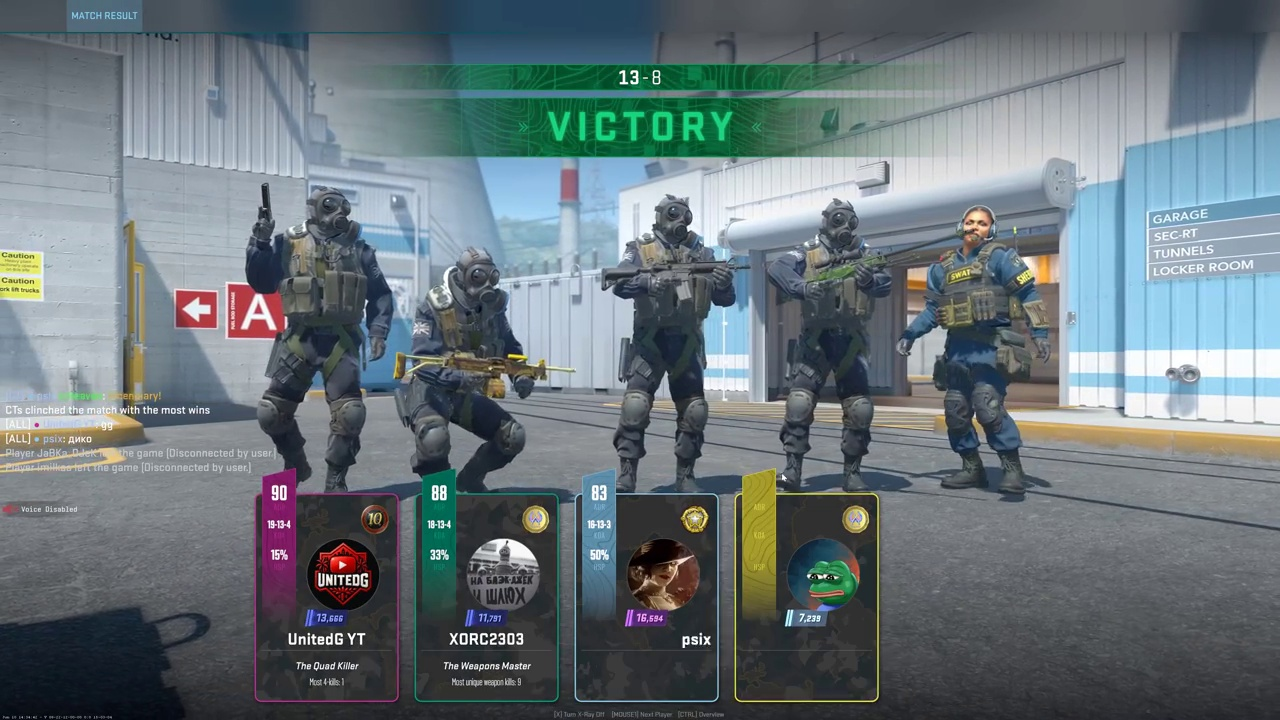CT: (260, 186, 375, 502), (610, 198, 729, 493), (773, 198, 889, 487), (403, 248, 522, 495), (931, 204, 1031, 495)
